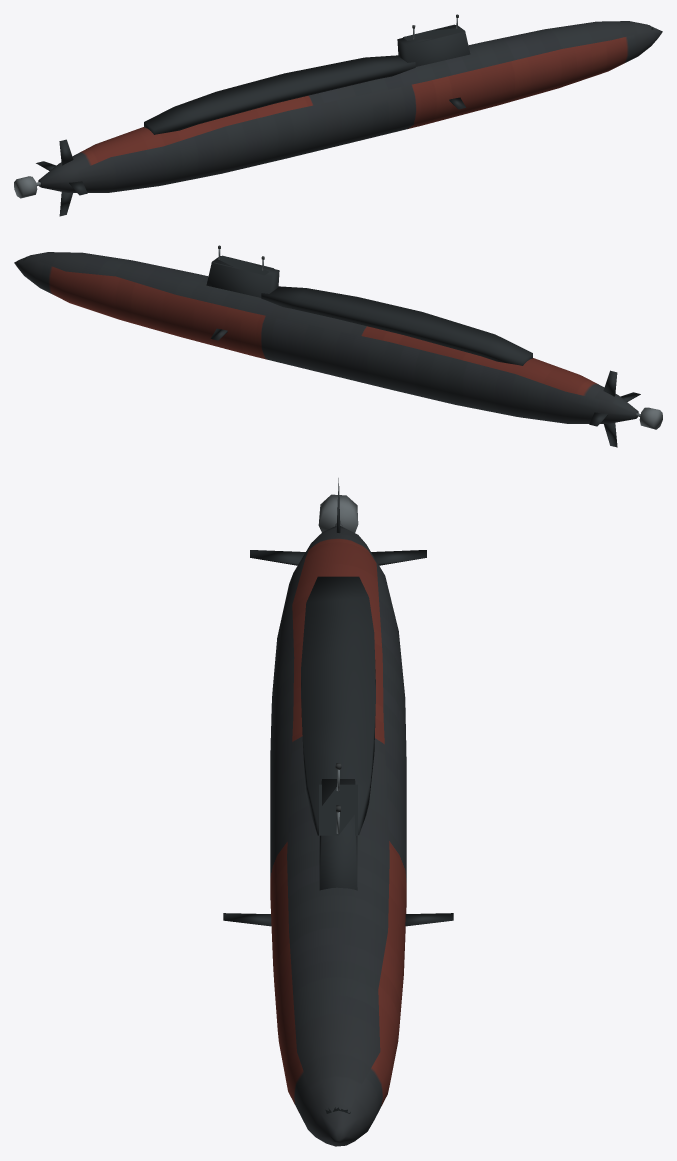
The model's file is CN_SSBN_Type094_LOD3.fbx.
3 views of the same model, one above another, from view 1: azimuth 30°, elevation 25°; view 2: azimuth 150°, elevation 25°; view 3: azimuth 270°, elevation 25° (orthographic). The views are drawn at different scales.
Visible parts, largest first — view 1: CN_SSBN_Type094_LOD3; view 2: CN_SSBN_Type094_LOD3; view 3: CN_SSBN_Type094_LOD3.
Part boxes in pixels (<box>): CN_SSBN_Type094_LOD3: <box>14,14,662,216</box>; CN_SSBN_Type094_LOD3: <box>14,245,662,447</box>; CN_SSBN_Type094_LOD3: <box>223,478,453,1146</box>.
Size of the model in its own units: 142 by 21.96 by 21.94.
6 materials, 1 textured.
